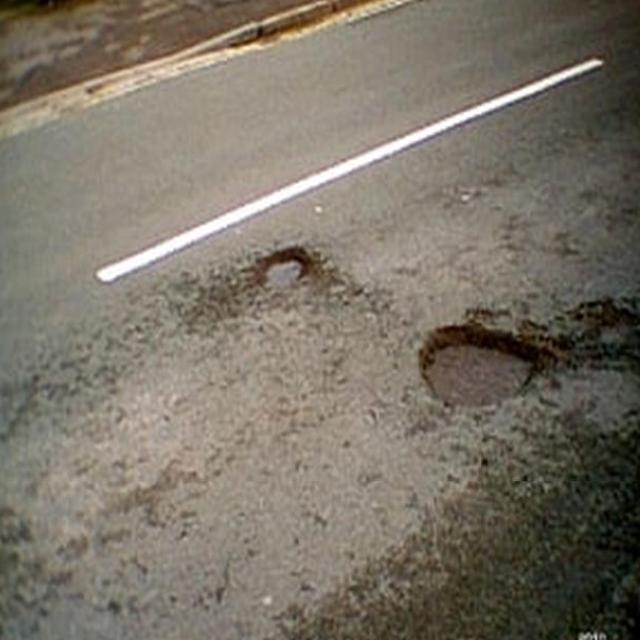Lubang: (416, 333, 549, 406), (249, 247, 317, 295)
